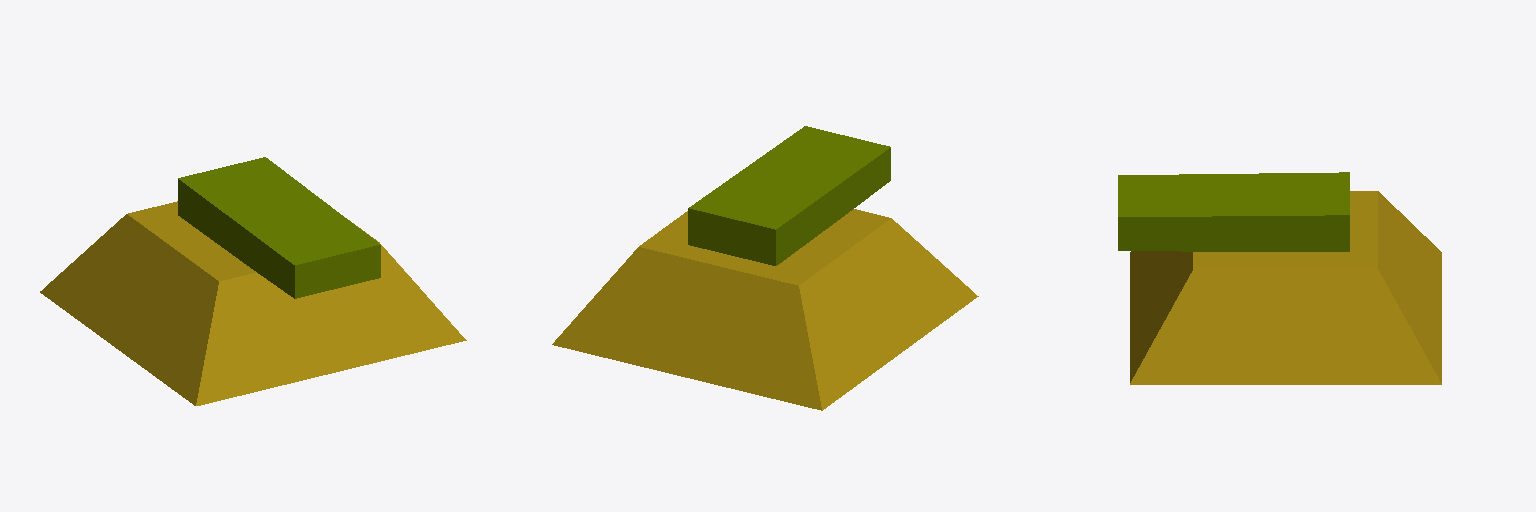
The model's file is Turret2.obj.
3 views of the same model, side by side, from view 1: azimuth 30°, elevation 25°; view 2: azimuth 150°, elevation 25°; view 3: azimuth 270°, elevation 25° (orthographic).
Parts seen in each view (by area): view 1: Box003, Box002; view 2: Box003, Box002; view 3: Box003, Box002.
Boxes of the visible parts, x1,y1,x2,y2 form: Box003: [40, 201, 466, 405]; Box002: [178, 157, 380, 298]; Box003: [552, 209, 978, 410]; Box002: [688, 126, 890, 265]; Box003: [1130, 191, 1441, 384]; Box002: [1118, 172, 1349, 251].
Bounding box in the file's own units: 39.56 × 17.46 × 41.03.